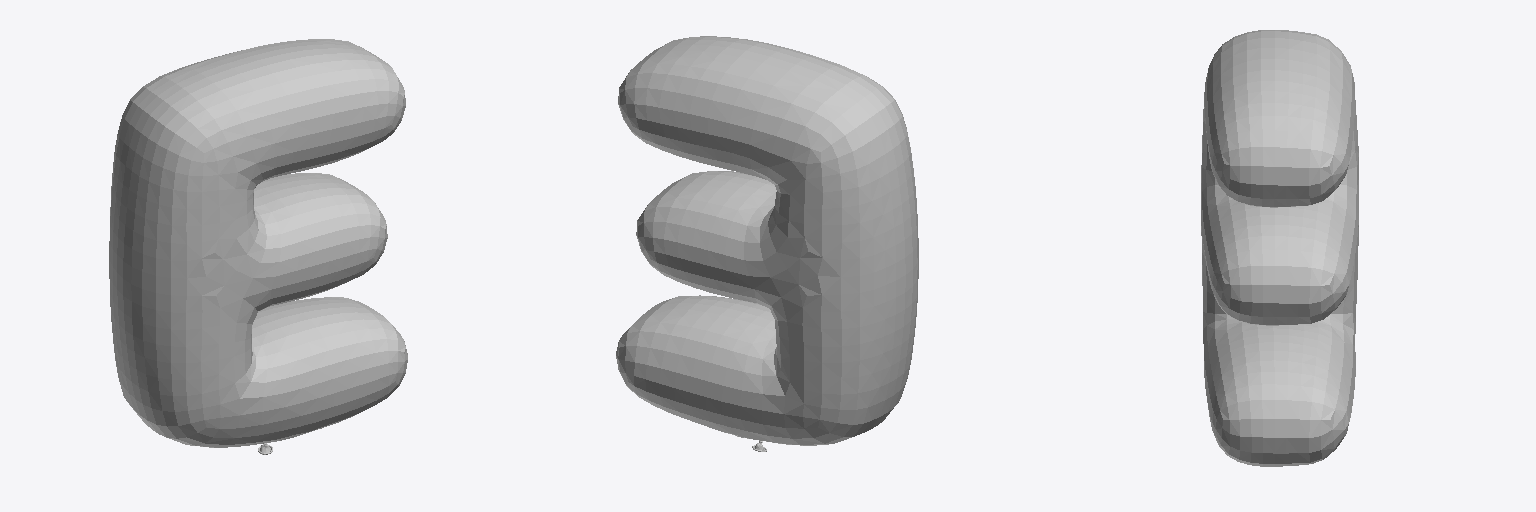
Rendered from balloone.obj.
The picture shows the model from 3 angles: view 1: azimuth 30°, elevation 25°; view 2: azimuth 150°, elevation 25°; view 3: azimuth 270°, elevation 25°; orthographic projection.
Visible parts, largest first — view 1: Balloon_Alphabet_Subdivision_E; view 2: Balloon_Alphabet_Subdivision_E; view 3: Balloon_Alphabet_Subdivision_E.
Boxes of the visible parts, x1=… form: Balloon_Alphabet_Subdivision_E: x1=109, y1=39, x2=407, y2=454; Balloon_Alphabet_Subdivision_E: x1=616, y1=36, x2=918, y2=451; Balloon_Alphabet_Subdivision_E: x1=1201, y1=30, x2=1358, y2=466.
Size of the model in its own units: 36.09 by 50.41 by 18.31.